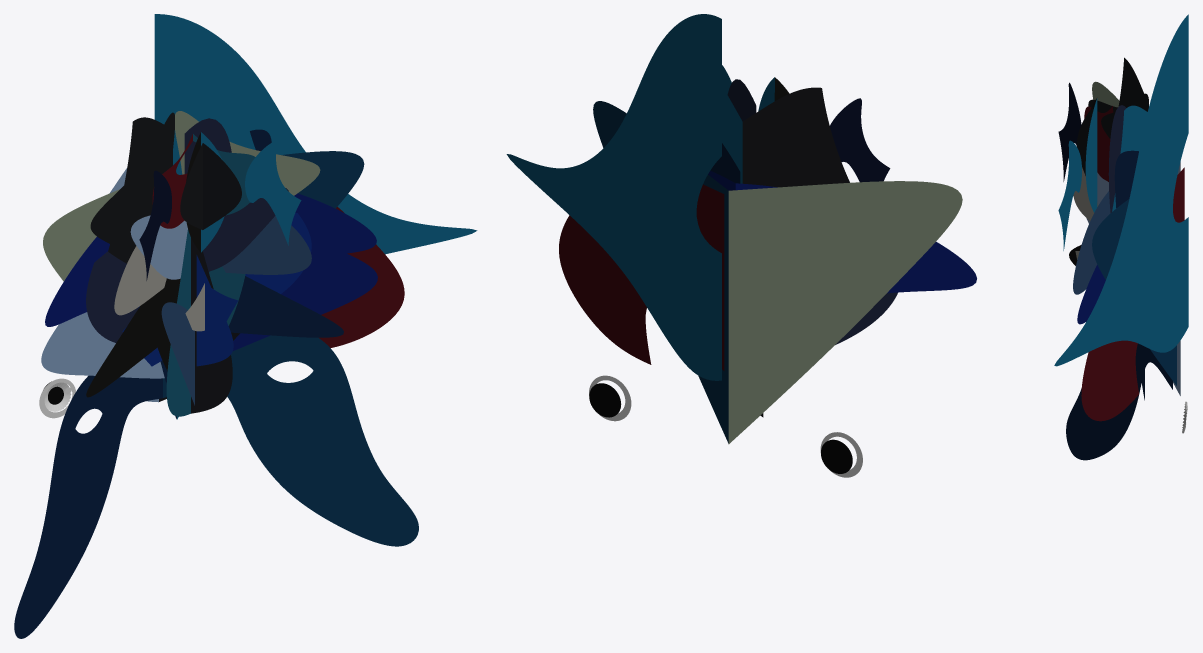
The model's file is totem2.glb.
3 renders of one model, left to right at view 1: azimuth 30°, elevation 25°; view 2: azimuth 150°, elevation 25°; view 3: azimuth 270°, elevation 25°, orthographic. The views are drawn at different scales.
Parts seen in each view (by area): view 1: RENDER_BASE; view 2: RENDER_BASE; view 3: RENDER_BASE.
Boxes of the visible parts, x1=… form: RENDER_BASE: x1=14, y1=14, x2=477, y2=638; RENDER_BASE: x1=506, y1=14, x2=976, y2=477; RENDER_BASE: x1=1054, y1=14, x2=1188, y2=460.
Bounding box in the file's own units: 6.88 × 7.7 × 1.76.
